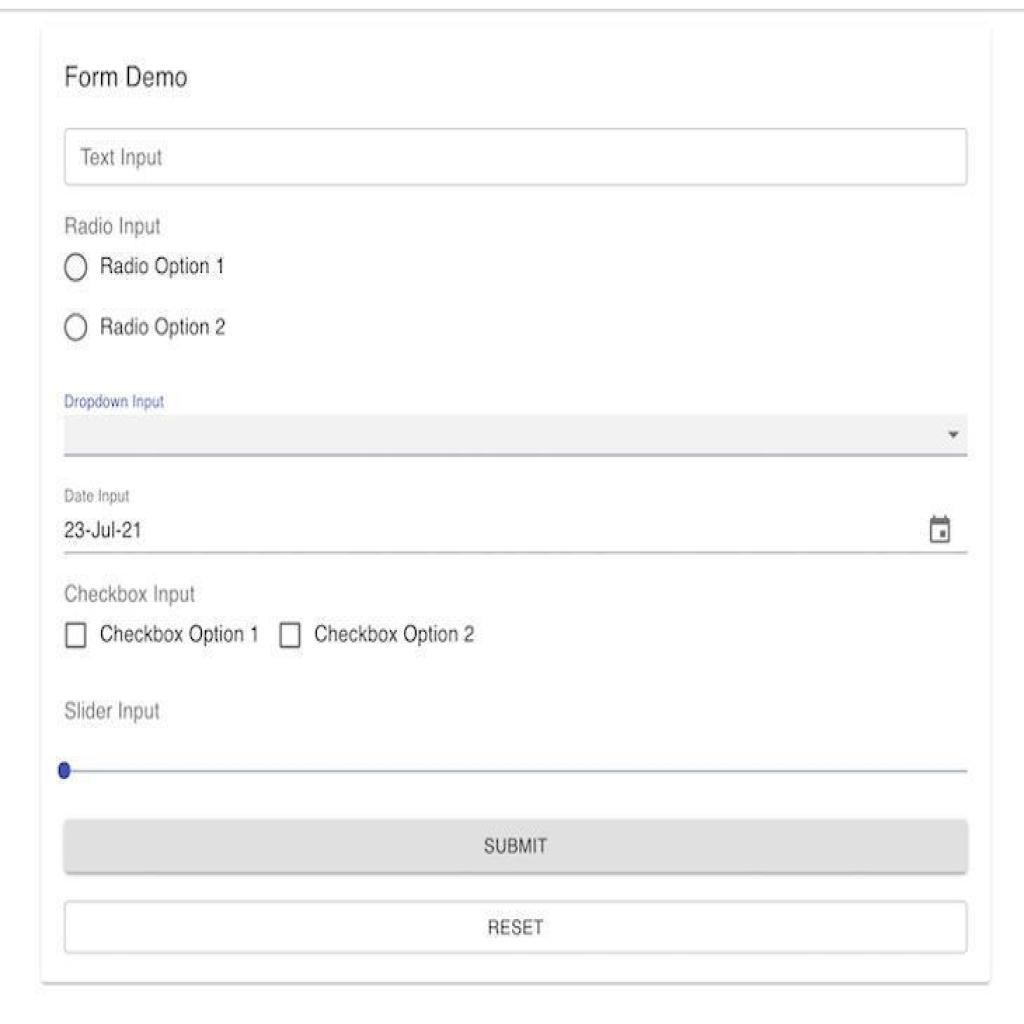button: (64, 817, 968, 872), (64, 905, 968, 950)
checkbox: (279, 621, 300, 648), (66, 622, 85, 650)
dropdown: (66, 413, 969, 453)
icon: (924, 509, 958, 550)
input: (63, 128, 968, 186), (62, 502, 919, 555)
label: (98, 308, 227, 347), (62, 56, 188, 95), (313, 618, 484, 646), (97, 625, 264, 651), (62, 580, 196, 610), (96, 256, 228, 286), (60, 212, 166, 242), (54, 700, 172, 725), (60, 394, 177, 411)
radio: (62, 249, 92, 287), (60, 311, 88, 345)
